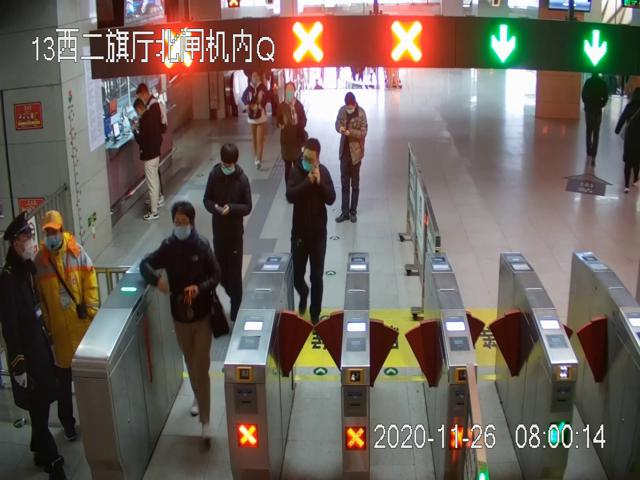person: (148, 194, 223, 448), (3, 212, 69, 480), (37, 198, 97, 448), (286, 141, 338, 328), (207, 134, 252, 323), (332, 87, 370, 226), (136, 83, 176, 209), (129, 99, 168, 224), (279, 77, 309, 200), (239, 68, 270, 172), (582, 70, 613, 170)
